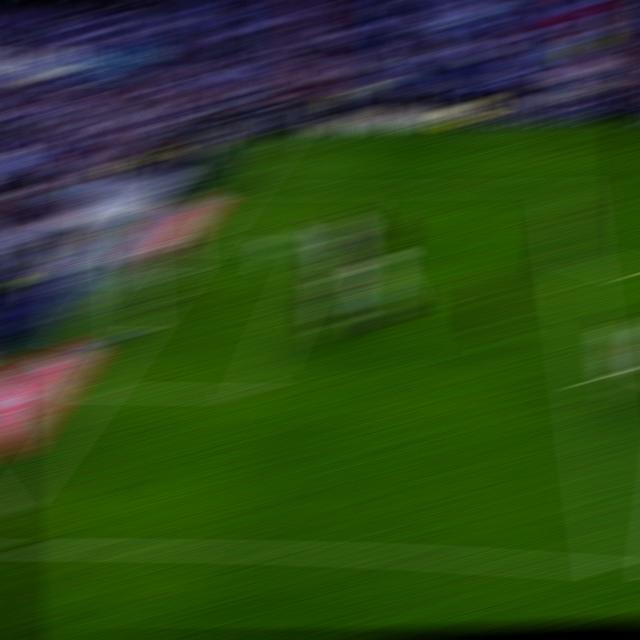bigarea_bottom_inner: (236, 380, 270, 404)
corner: (266, 134, 296, 140)
halfcircle_top: (558, 249, 590, 265)
smallarea_top_outter: (188, 237, 218, 250)
